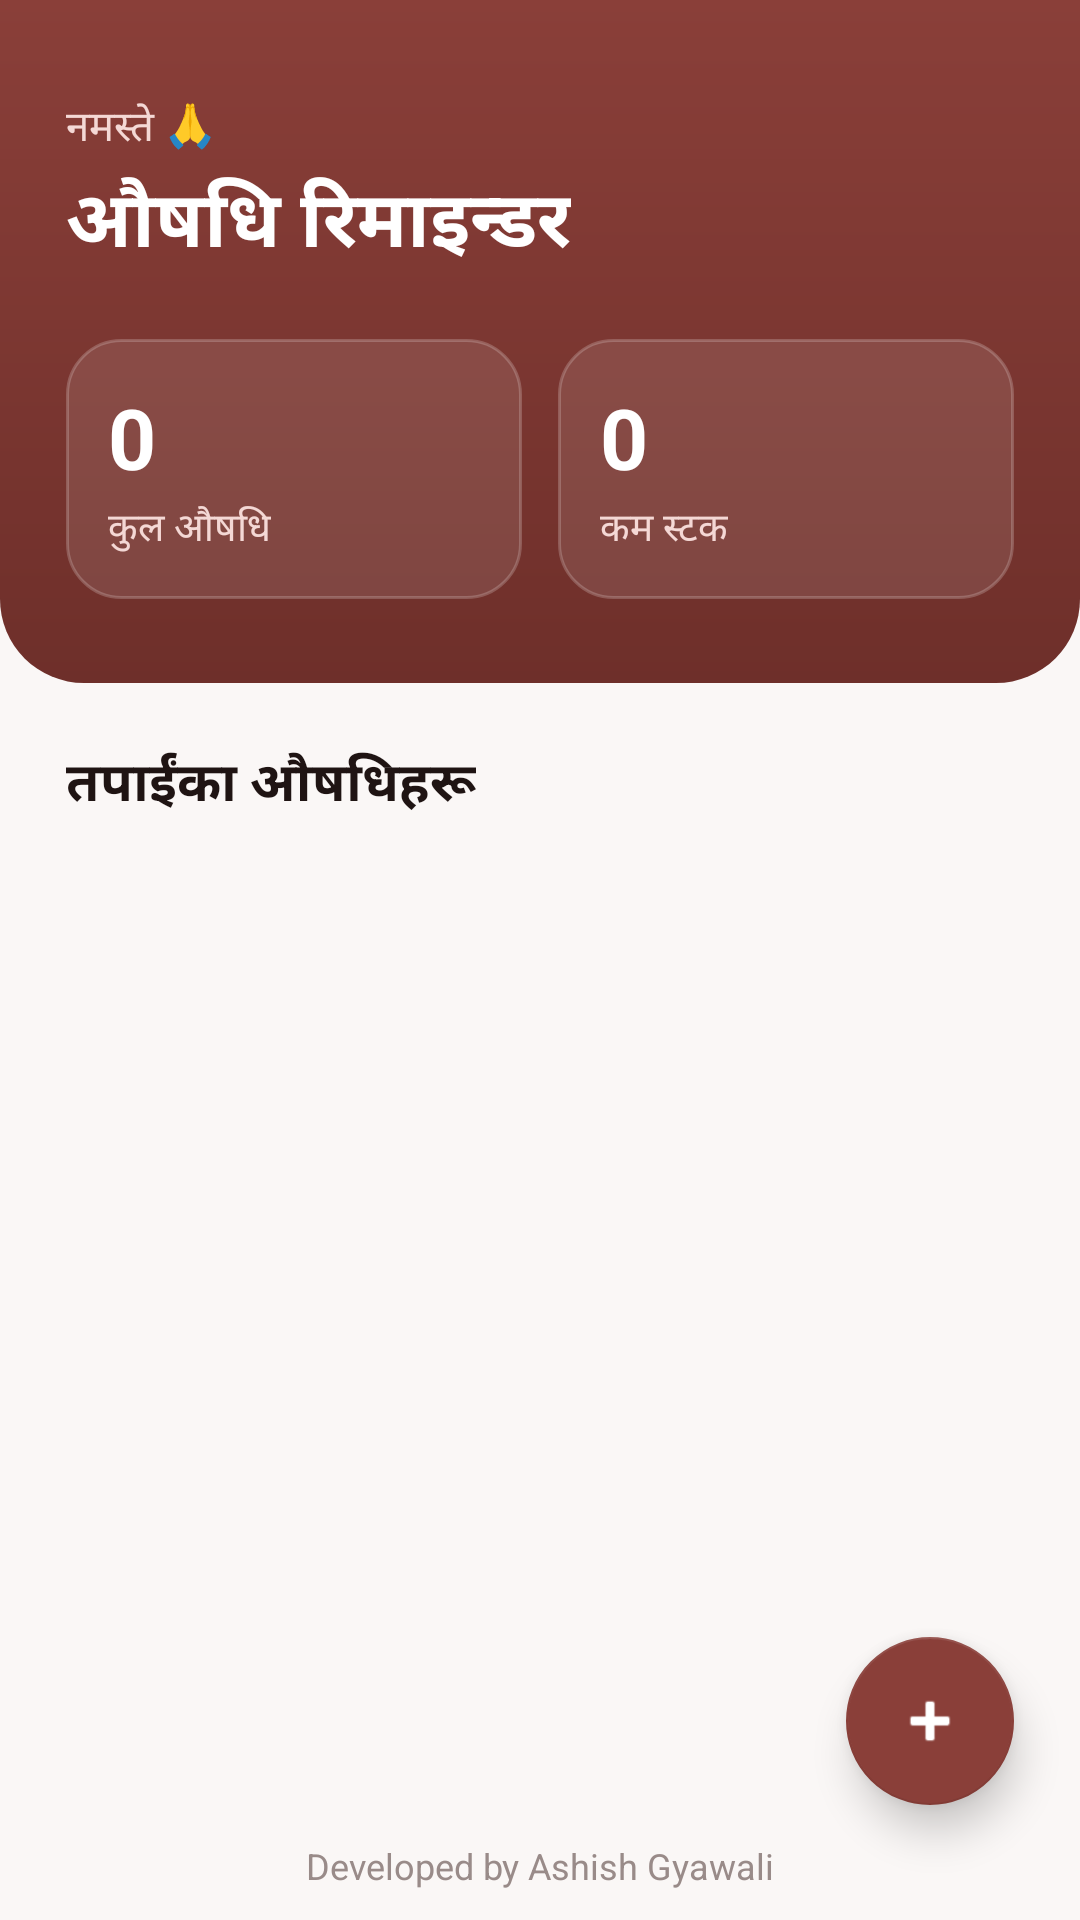

Point at icon controls on the screen. Image size 1080px x 1920px, points as point (x, y).
औषधि थप्नुहोस्: point (930, 1721)
